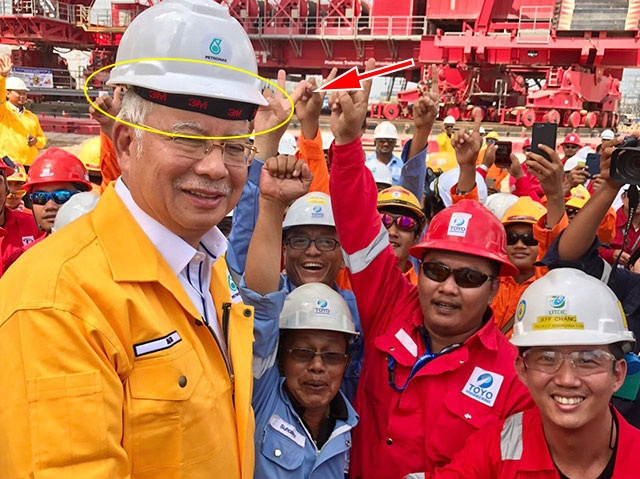red: (24, 148, 90, 230), (562, 134, 583, 156)
white: (109, 1, 262, 228), (510, 269, 630, 429), (271, 282, 356, 410), (278, 189, 350, 289), (369, 121, 399, 157), (3, 74, 30, 110), (599, 128, 615, 144), (442, 114, 455, 133)
yellow: (372, 182, 425, 262), (498, 197, 549, 267), (558, 183, 592, 223), (485, 131, 497, 144)
